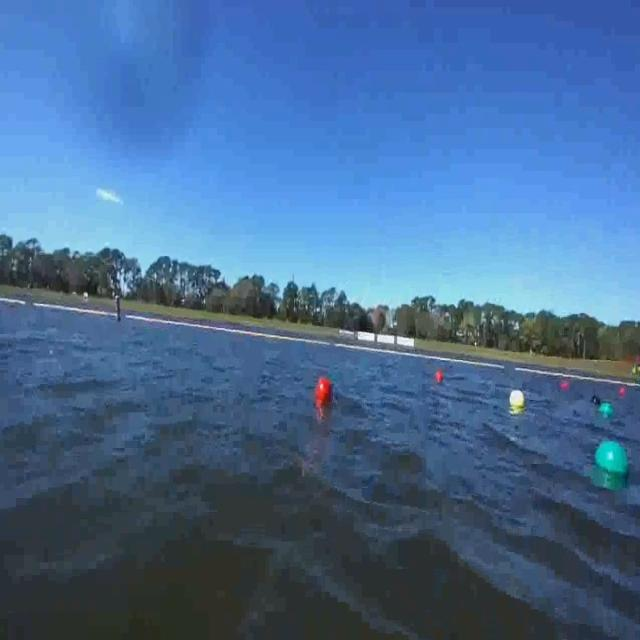green-buoy: (594, 441, 628, 477), (599, 404, 613, 419)
red-buoy: (319, 376, 334, 404), (560, 381, 570, 392), (436, 370, 444, 383), (620, 387, 627, 398)
yellow-buoy: (511, 389, 527, 409)
